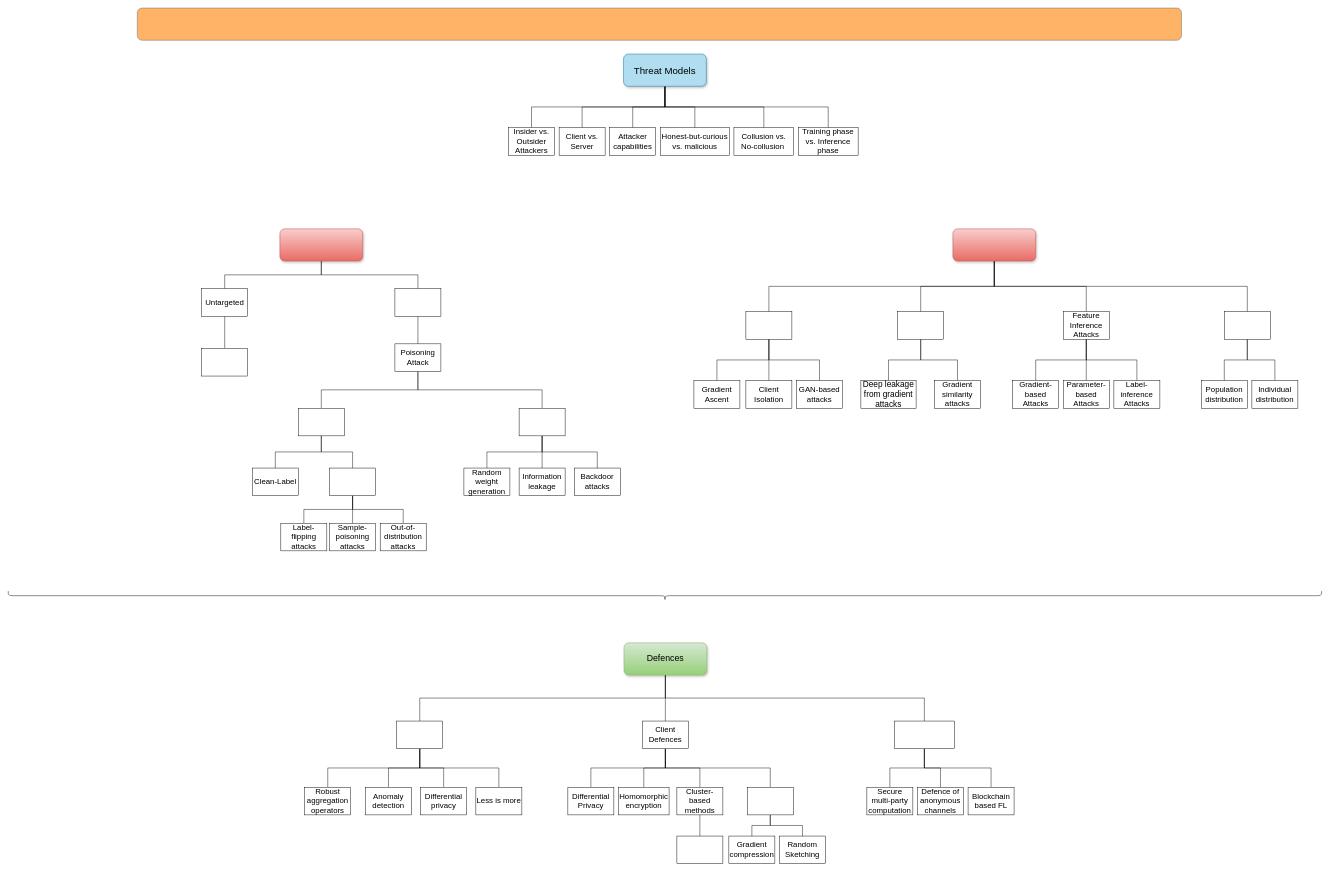
This 1329x872 diagram has some shape labels left out. The shapes that lost their labels are listed below. From the top down, each one's centre as x and y in pixels, then its label:
point (659, 24): Federated Learning
point (321, 245): Security Attacks
point (994, 245): Privacy Attacks
point (417, 302): Targeted
point (768, 325): Membership Inference Attack
point (920, 325): Model Inversion Attacks
point (1247, 325): Property Inference
point (224, 362): Byzantine Attacks
point (321, 422): Data Poisoning
point (542, 422): Model Poisoning
point (352, 482): Dirty-Label
point (419, 735): Server Defences
point (924, 735): Communication Defences
point (770, 801): Perturbation methods
point (699, 850): Adversarial training
